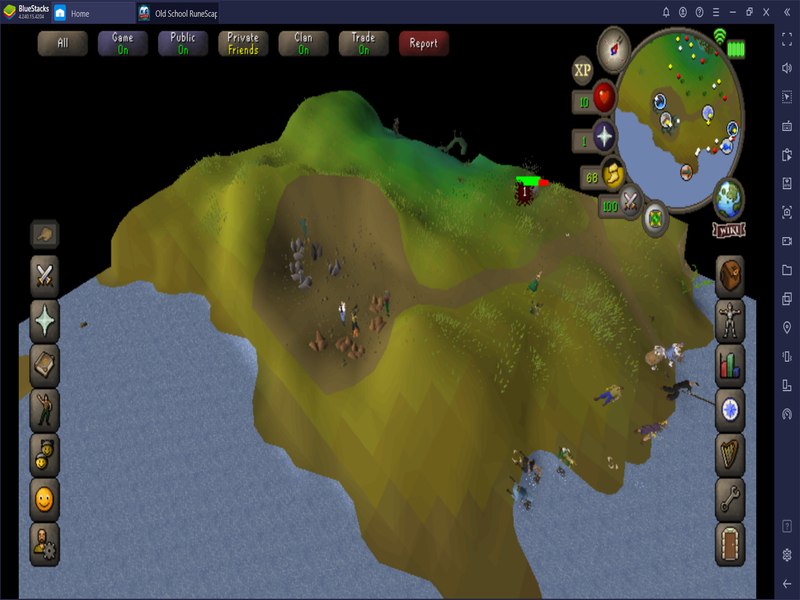copper_rock_1: (368, 293, 387, 314)
copper_rock_2: (367, 313, 390, 334)
